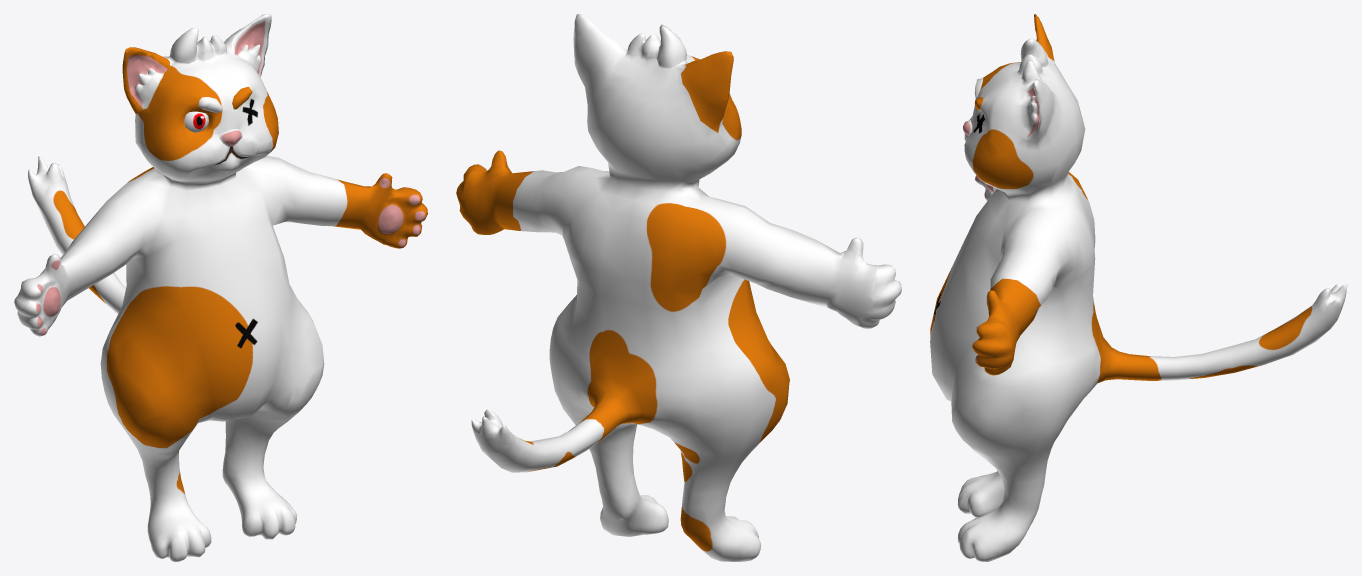
The model's file is Meowfia_Boss_static_norig.fbx.
3 views of the same model, side by side, from view 1: azimuth 30°, elevation 25°; view 2: azimuth 150°, elevation 25°; view 3: azimuth 270°, elevation 25° (orthographic). The views are drawn at different scales.
Parts seen in each view (by area): view 1: polySurface7; view 2: polySurface7; view 3: polySurface7.
Boxes of the visible parts, left/top/right/bottom form: polySurface7: left=14, top=14, right=427, bottom=561; polySurface7: left=456, top=14, right=901, bottom=561; polySurface7: left=930, top=14, right=1347, bottom=561.
Bounding box in the file's own units: 3.75 × 4.39 × 3.39.
